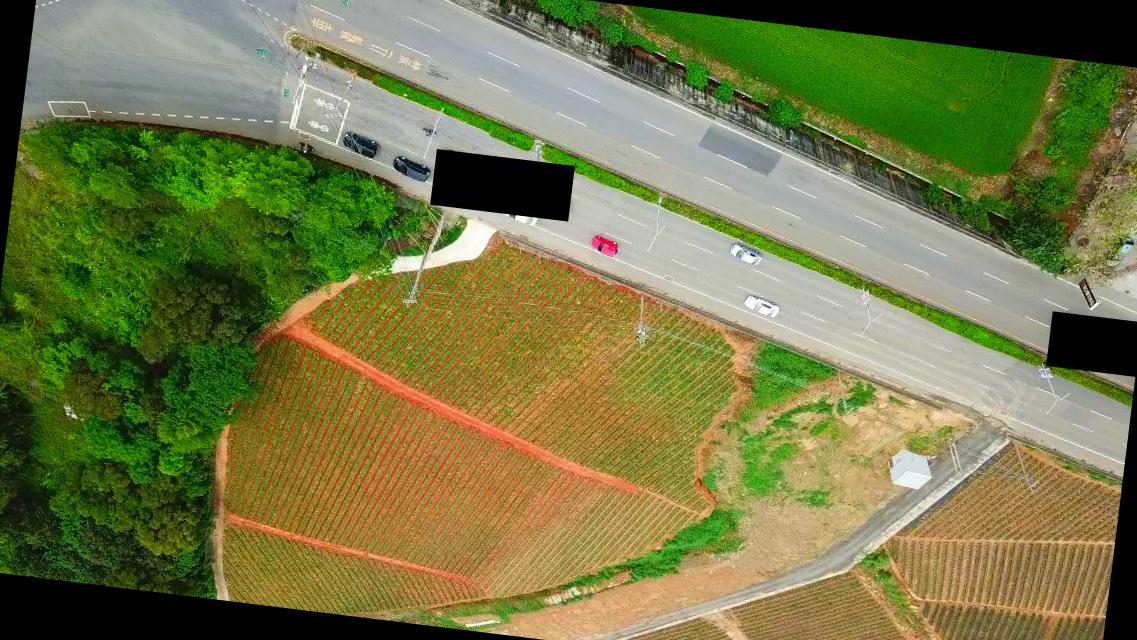vehicle: (389, 153, 431, 183), (341, 130, 379, 162), (496, 200, 538, 228), (1102, 233, 1134, 269), (443, 179, 483, 206), (740, 294, 780, 318), (726, 243, 762, 266), (589, 235, 619, 258)
